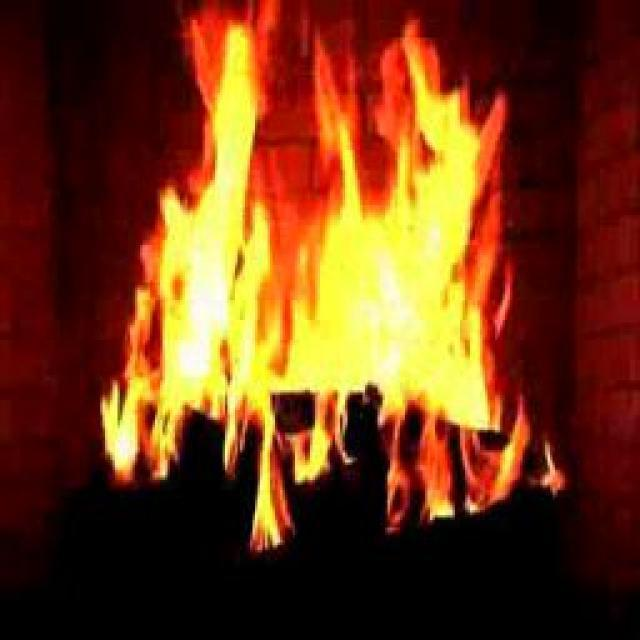Fire: (118, 61, 516, 463)
